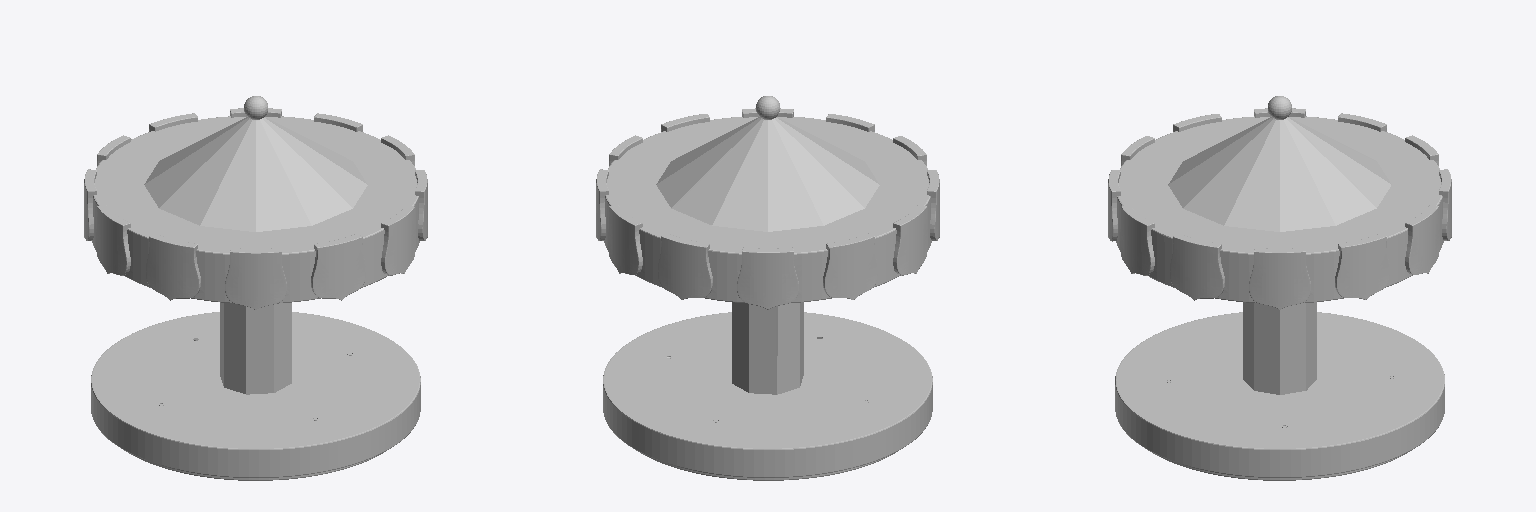
File: 회전목마 몸통.obj
The picture shows the model from 3 angles: view 1: azimuth 30°, elevation 25°; view 2: azimuth 150°, elevation 25°; view 3: azimuth 270°, elevation 25°; orthographic projection.
Parts seen in each view (by area): view 1: 16818_carousel_v1; view 2: 16818_carousel_v1; view 3: 16818_carousel_v1.
Part boxes in pixels (bbox=[...]): 16818_carousel_v1: bbox=[84, 96, 427, 480]; 16818_carousel_v1: bbox=[596, 96, 939, 480]; 16818_carousel_v1: bbox=[1108, 96, 1451, 480].
Size of the model in its own units: 27.74 by 28.4 by 27.74.